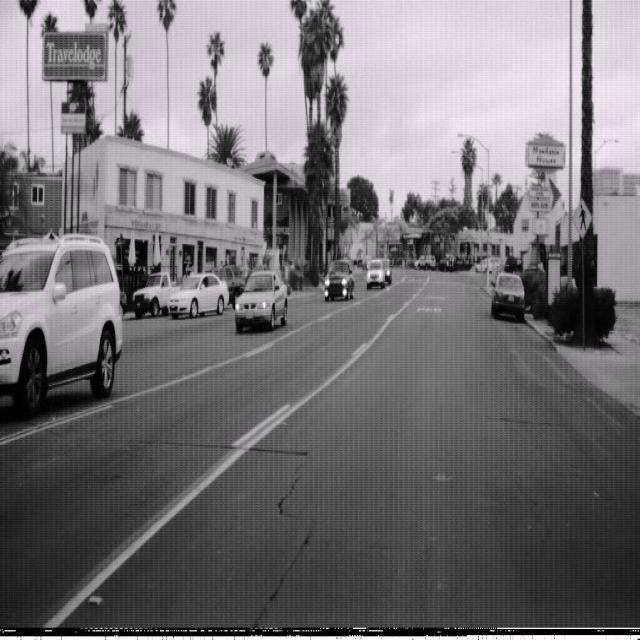pedestrianCrossing: (570, 195, 592, 240)
